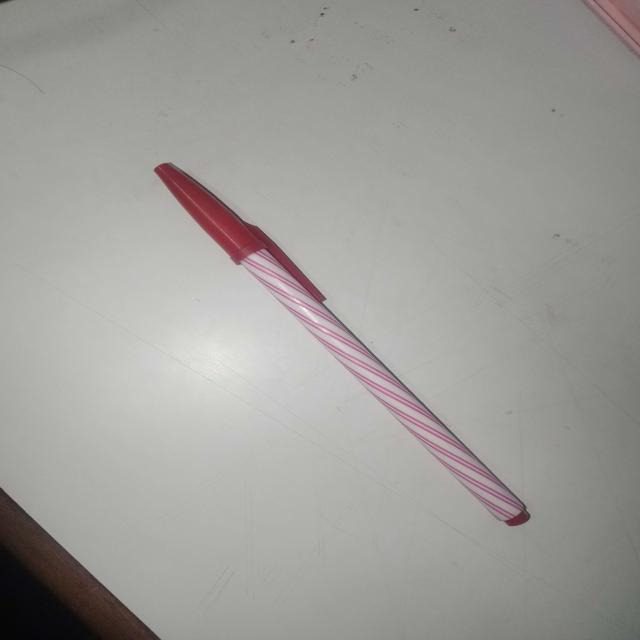pen_pencil: (120, 146, 559, 538)
